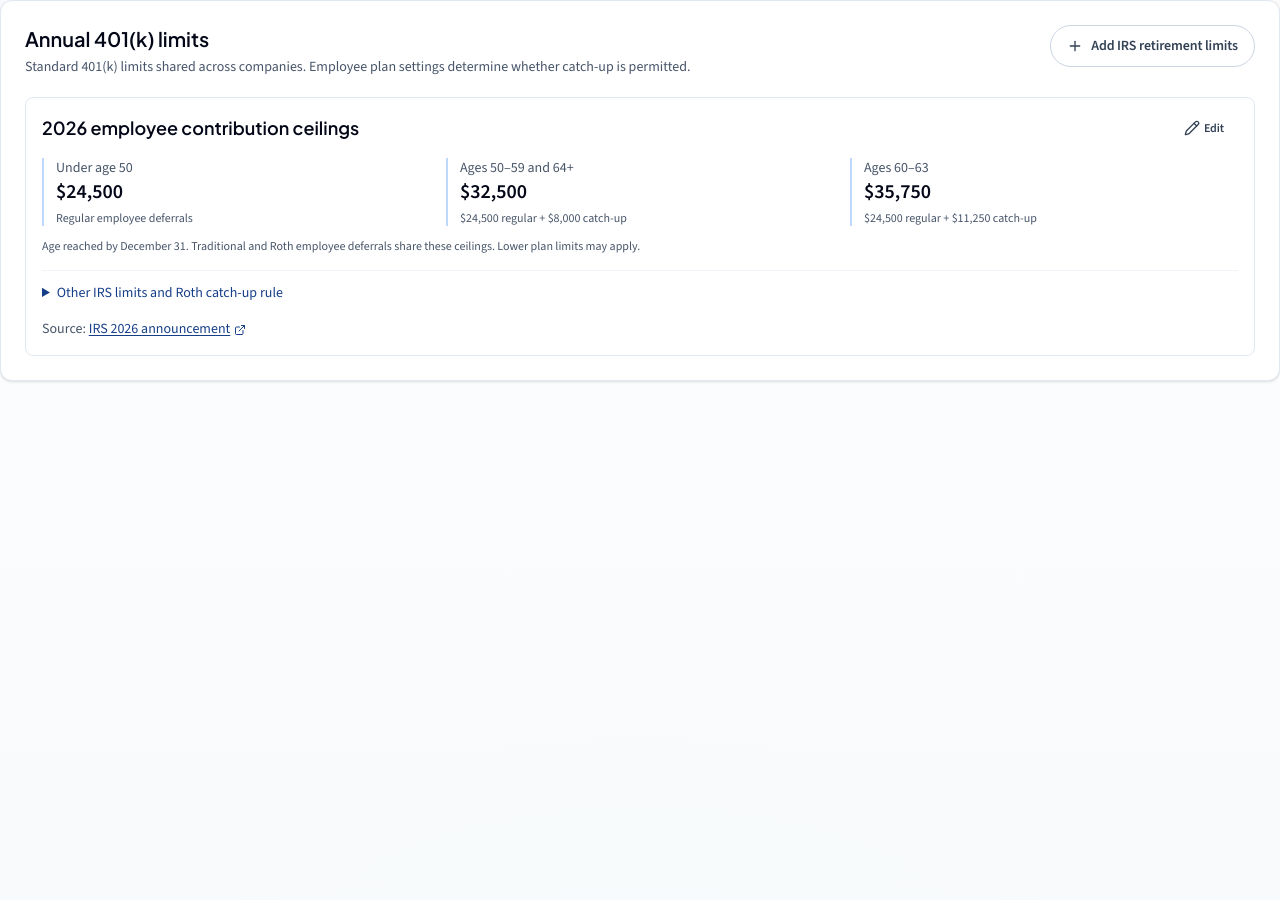
AnnualRetirementLimitsPanel › rejects an unsafe source URL before sending an edited annual limit
The image size is (1280, 900).
Check: the text "$35,750" is shown, box [864,178,931,205]
Click the button with aria-label "Edit 2026 retirement limits" at (1204, 128), box [1170,114,1238,142]
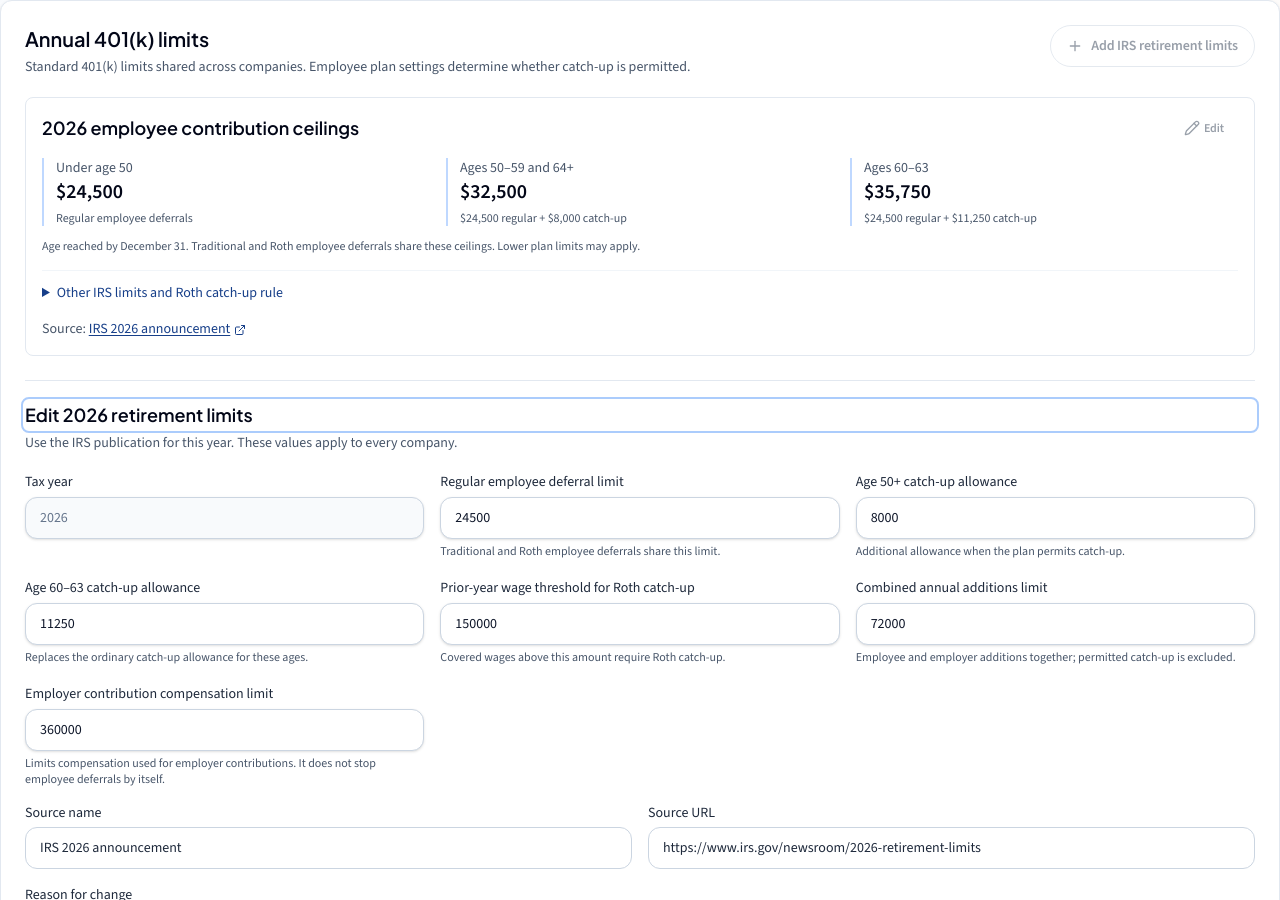
Replace the text in the field labelled "Source URL" with "javascript:alert(1)" at (952, 848), box [648,827,1255,869]
(page scrolled)
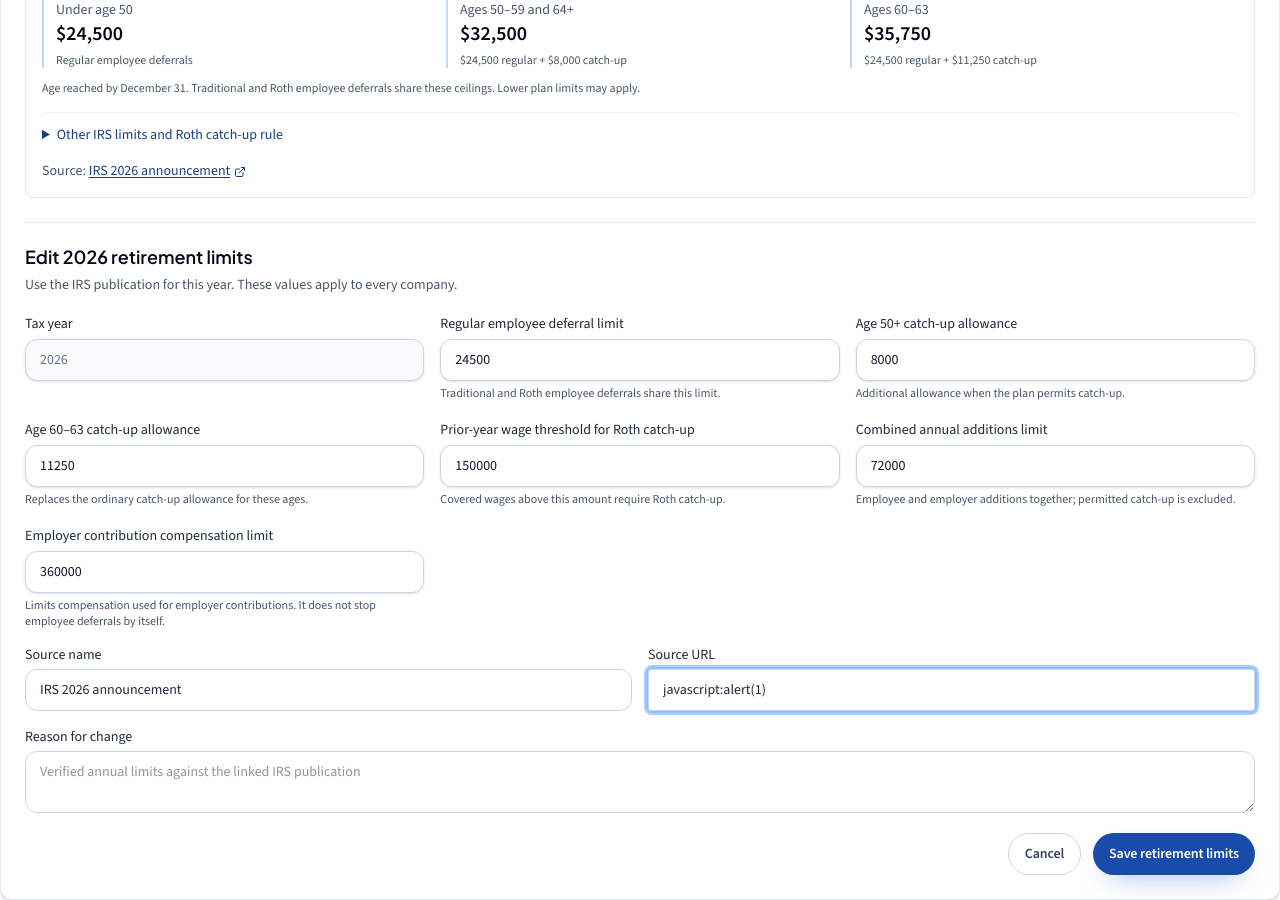
Type "Verify published limits" into the text box labelled "Reason for change" at (640, 782), box [25,751,1255,813]
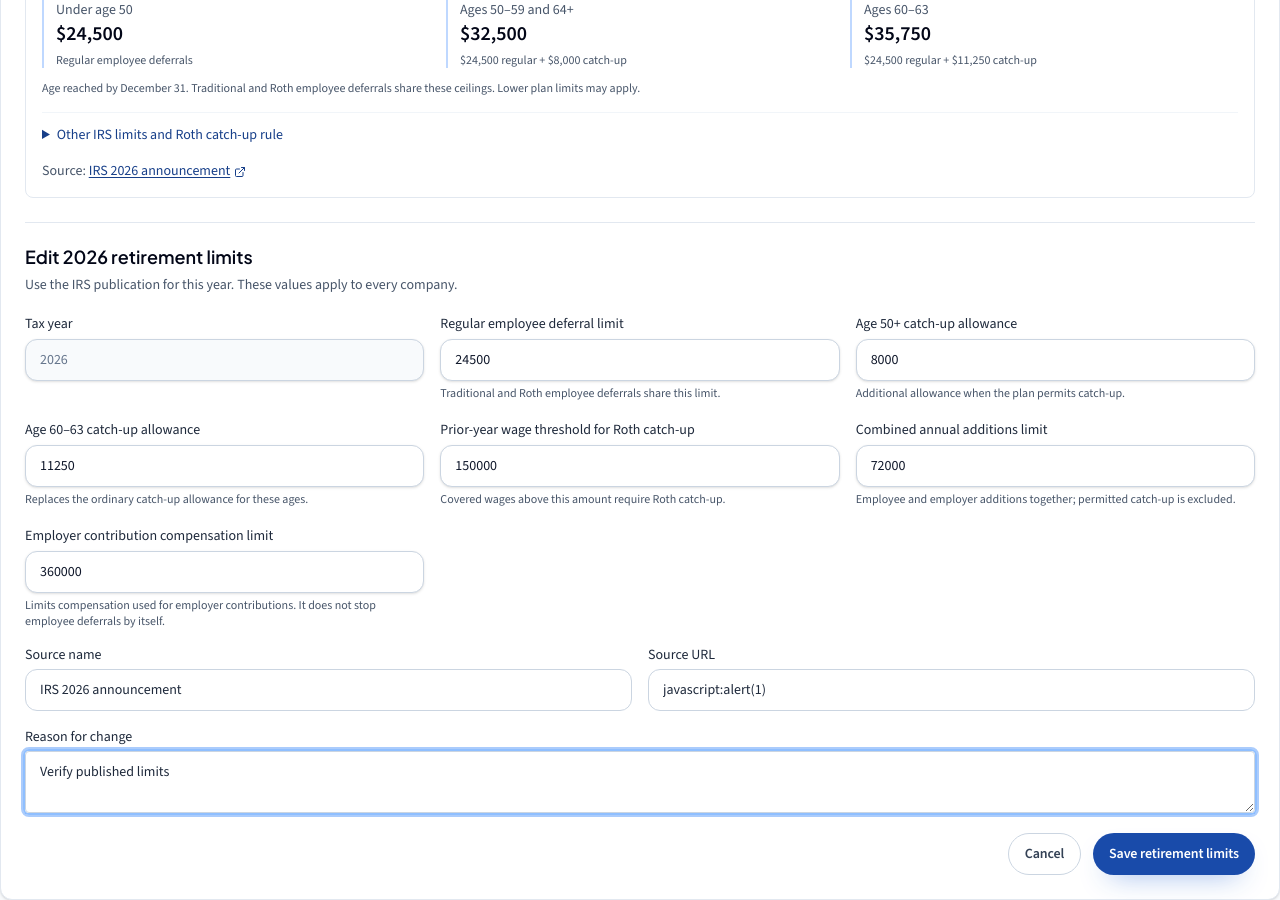
Click the button "Save retirement limits" at (1174, 854), box [1093,833,1255,875]
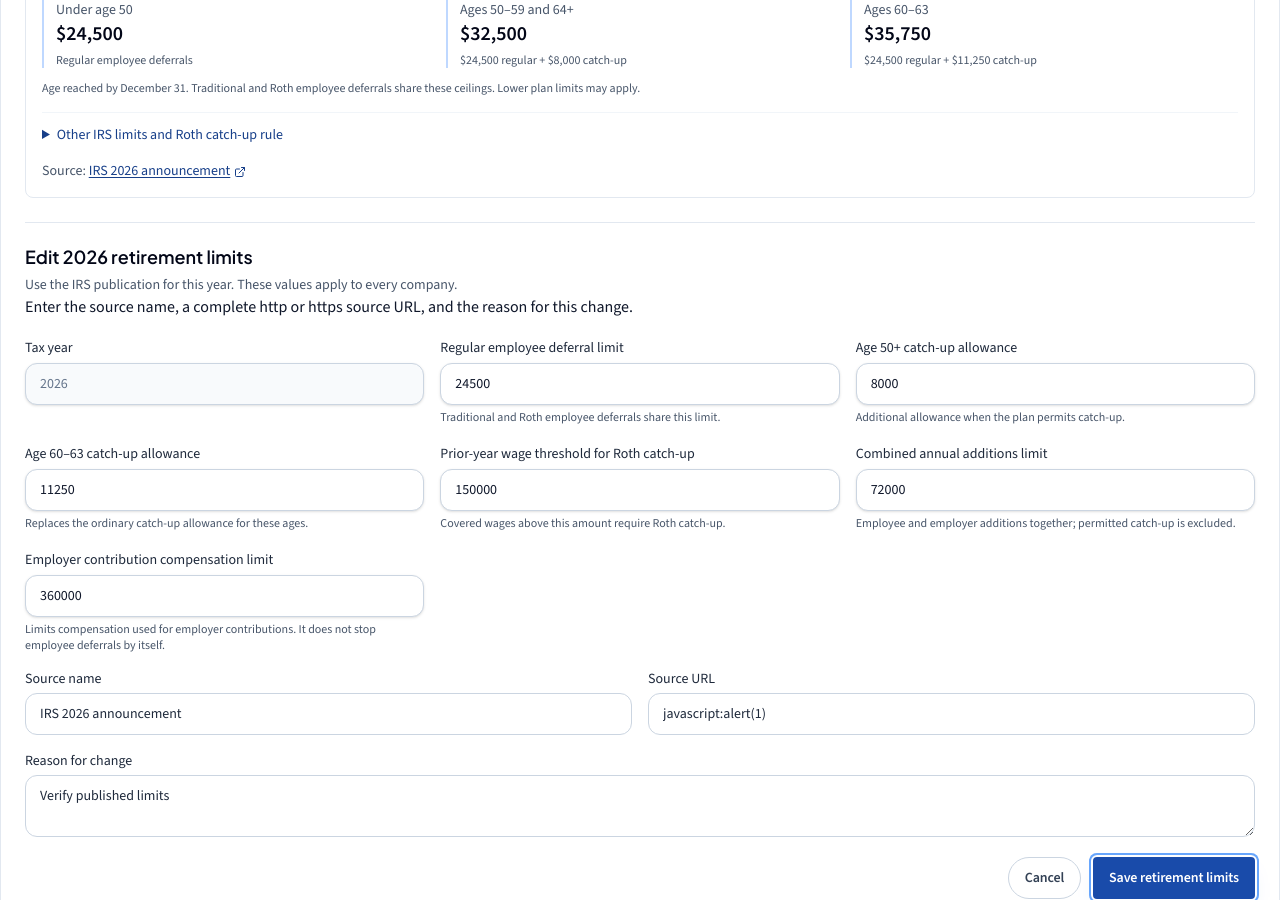
Check: the message shows "Enter the source name, a complete http or https source URL, and the reason for this change.", box [25,296,633,317]
